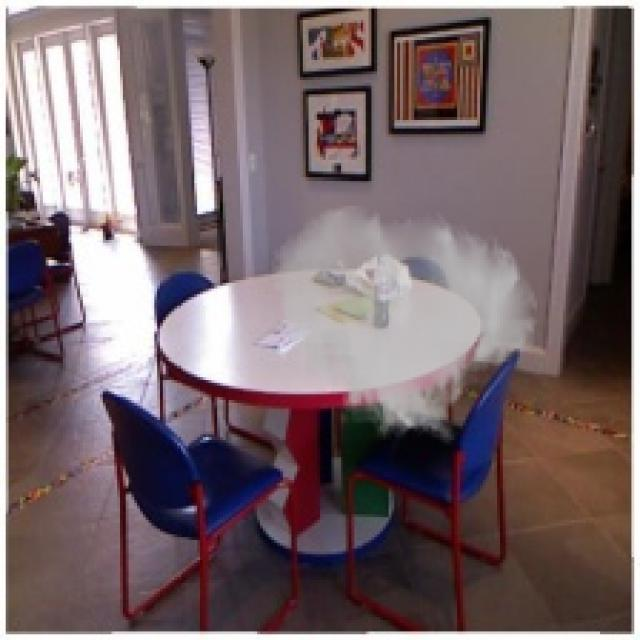Smoke: (269, 203, 540, 446)
